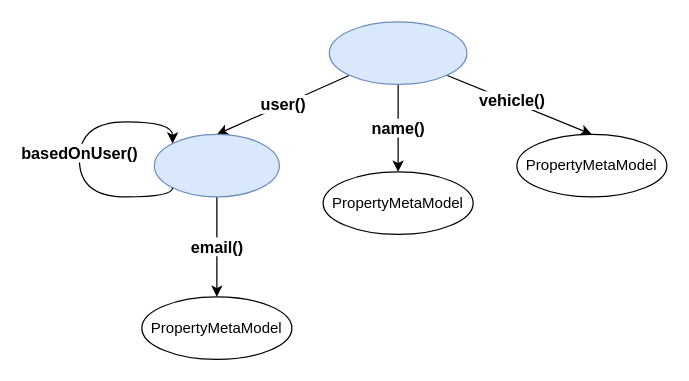
The diagram is 689 pixels wide and 381 high, and some of its shapes have lost their labels. Here are the shapes that lost their labels. From the top down, the box of each, then its label:
(328, 21, 467, 84): PersonMetaModel
(153, 133, 279, 197): UserMetaModel
